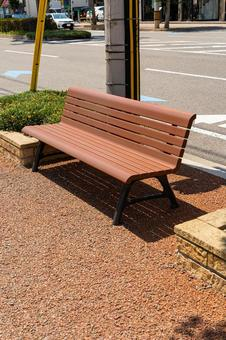Chair: (21, 82, 201, 227)
